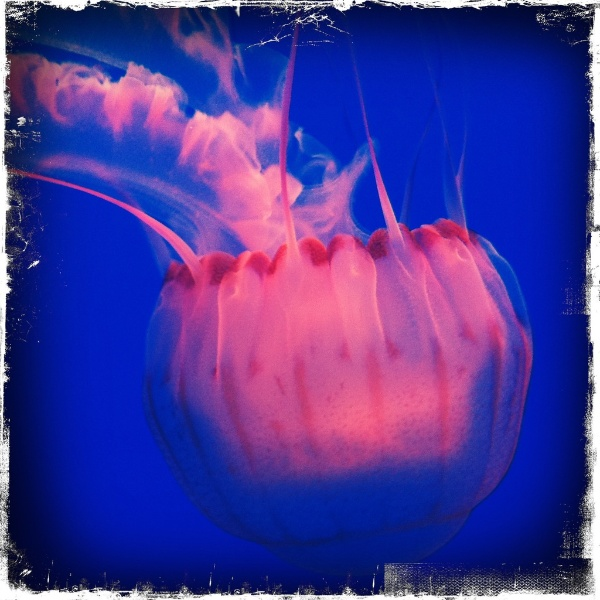Jellyfish: (2, 5, 538, 598)
